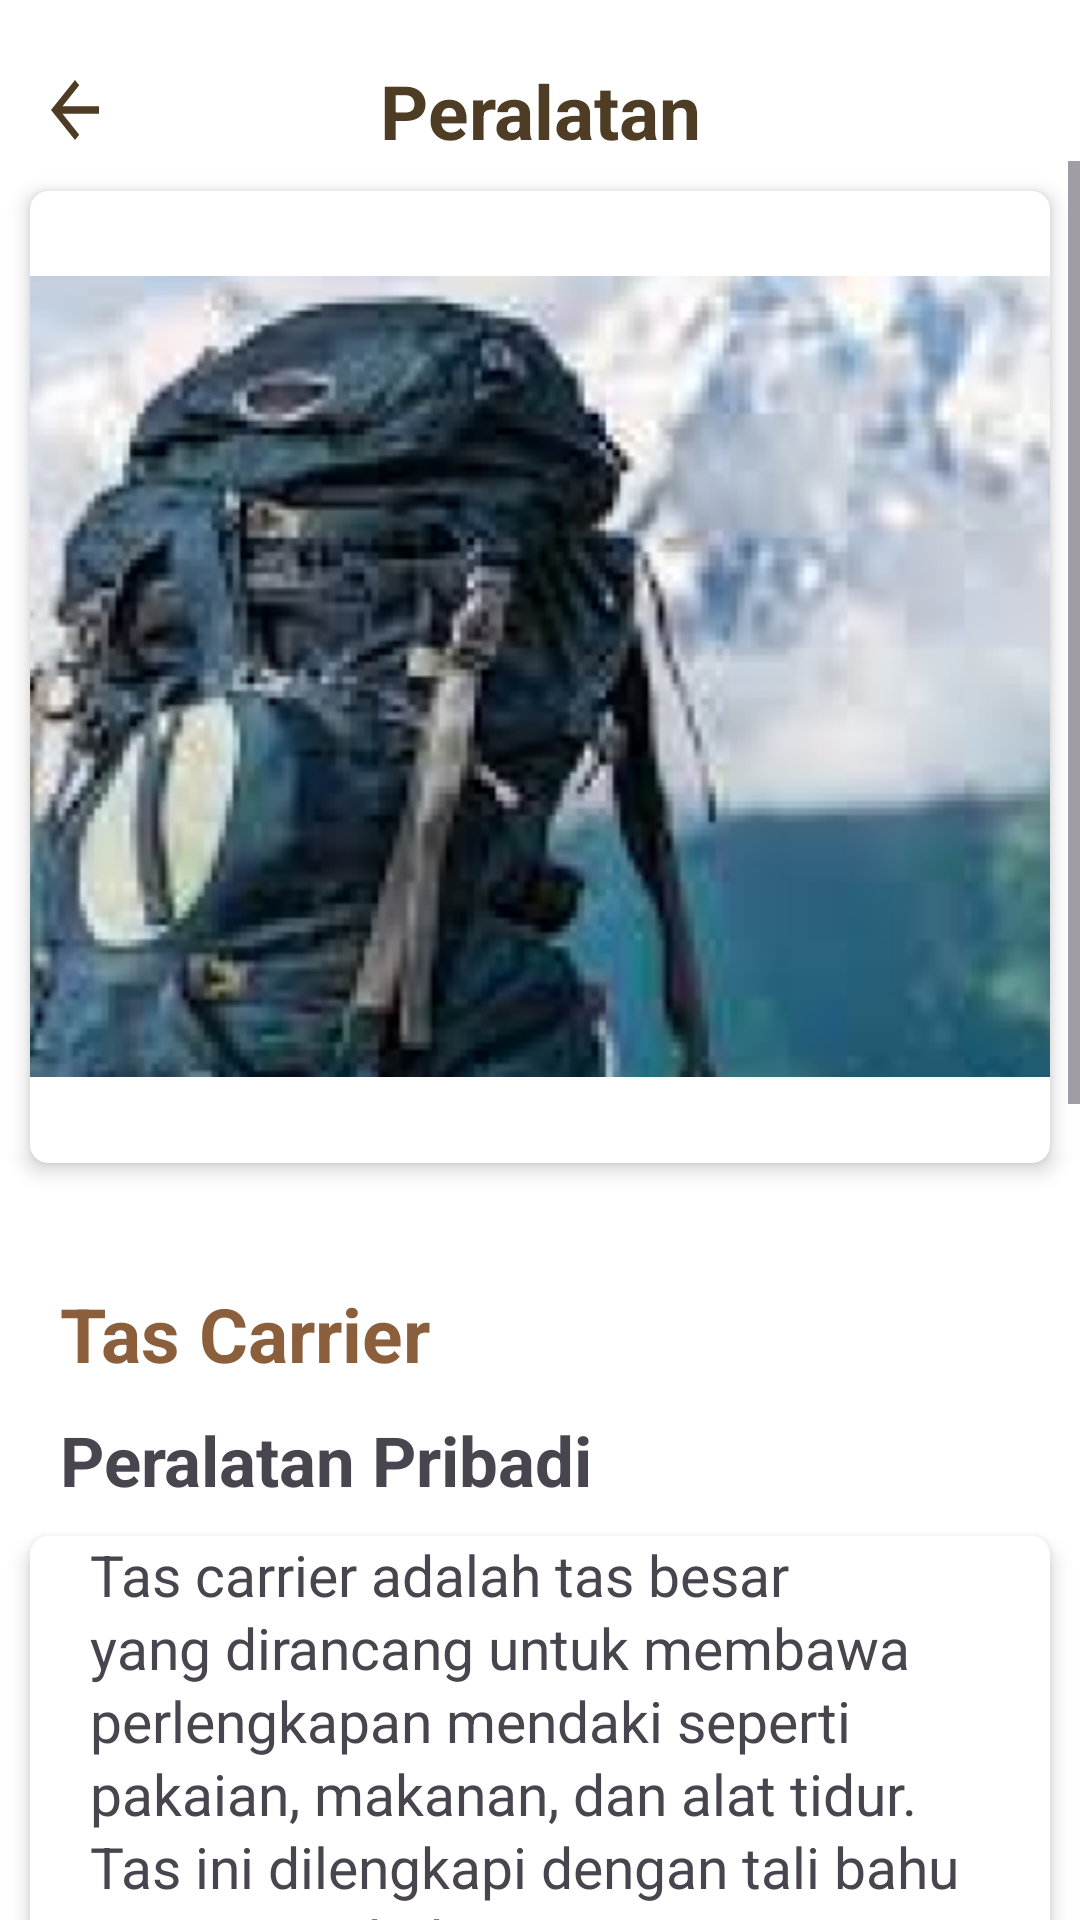

Icon bounding boxes for this 1080 x 1920 phone screenshot, format {"x1": x1, "y1": y1, "x2": x2, "y2": y2}:
Back Button: {"x1": 51, "y1": 80, "x2": 99, "y2": 140}
